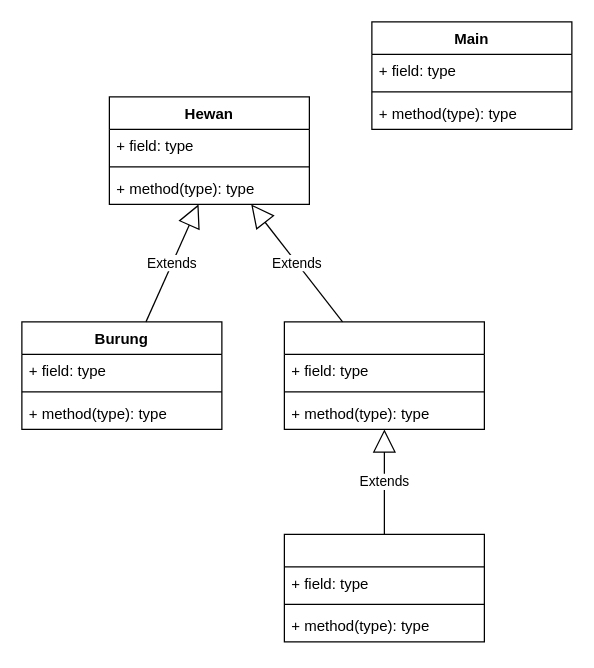
Some shapes in this 594 by 668 pixel diagram are drawn without their labels. Each missing label, with the box of its shape:
Anggora: (283, 533, 484, 642)
Kucing: (283, 321, 484, 429)
